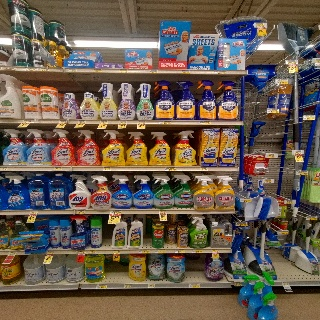All PRICE TAGS: (275, 79, 288, 84), (303, 115, 315, 120), (267, 108, 279, 113), (96, 284, 107, 289), (296, 170, 307, 175), (25, 67, 37, 71), (235, 222, 247, 226), (214, 70, 226, 74), (110, 210, 121, 214), (189, 284, 200, 288), (277, 230, 288, 234), (306, 216, 317, 220), (224, 101, 235, 105), (165, 167, 176, 171), (241, 198, 251, 202), (288, 60, 297, 64), (175, 249, 184, 253), (193, 249, 202, 253), (68, 68, 77, 72), (181, 70, 190, 74), (77, 120, 86, 124), (99, 120, 108, 124), (282, 281, 289, 286), (77, 210, 85, 214), (147, 284, 155, 288), (23, 119, 31, 123), (268, 153, 274, 158), (160, 121, 170, 124), (200, 121, 210, 124), (120, 69, 127, 73), (211, 249, 218, 253), (124, 284, 131, 288), (103, 167, 110, 171), (78, 250, 85, 254), (234, 282, 241, 286), (264, 179, 271, 183), (140, 250, 149, 253), (156, 250, 165, 253), (39, 68, 48, 71), (8, 252, 17, 255), (150, 70, 159, 73), (137, 121, 146, 124), (54, 167, 62, 170), (295, 150, 301, 154), (94, 69, 102, 72), (119, 121, 127, 124), (159, 210, 166, 213), (113, 250, 120, 253), (59, 120, 66, 123), (30, 211, 37, 214), (47, 251, 54, 254), (286, 200, 293, 203), (200, 167, 207, 170), (1, 167, 7, 170), (89, 250, 95, 253), (315, 59, 319, 63)
